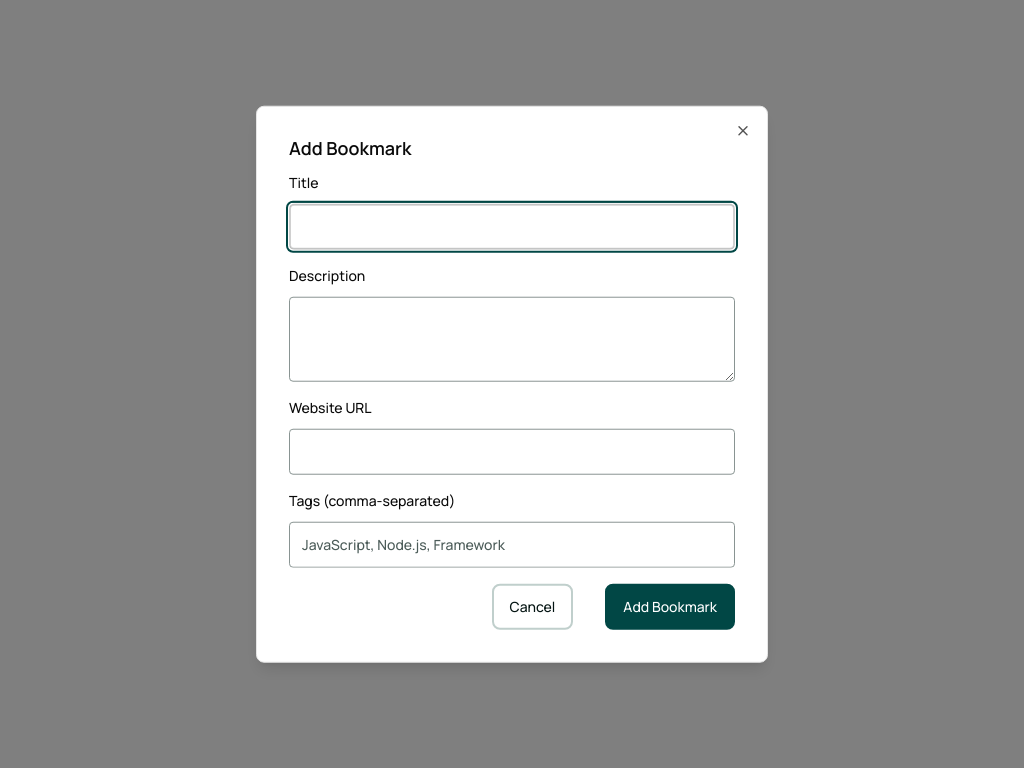
it: AddBookmarkDialog › validates required fields
Click the button "Add Bookmark": (670, 606) [605, 583, 735, 629]
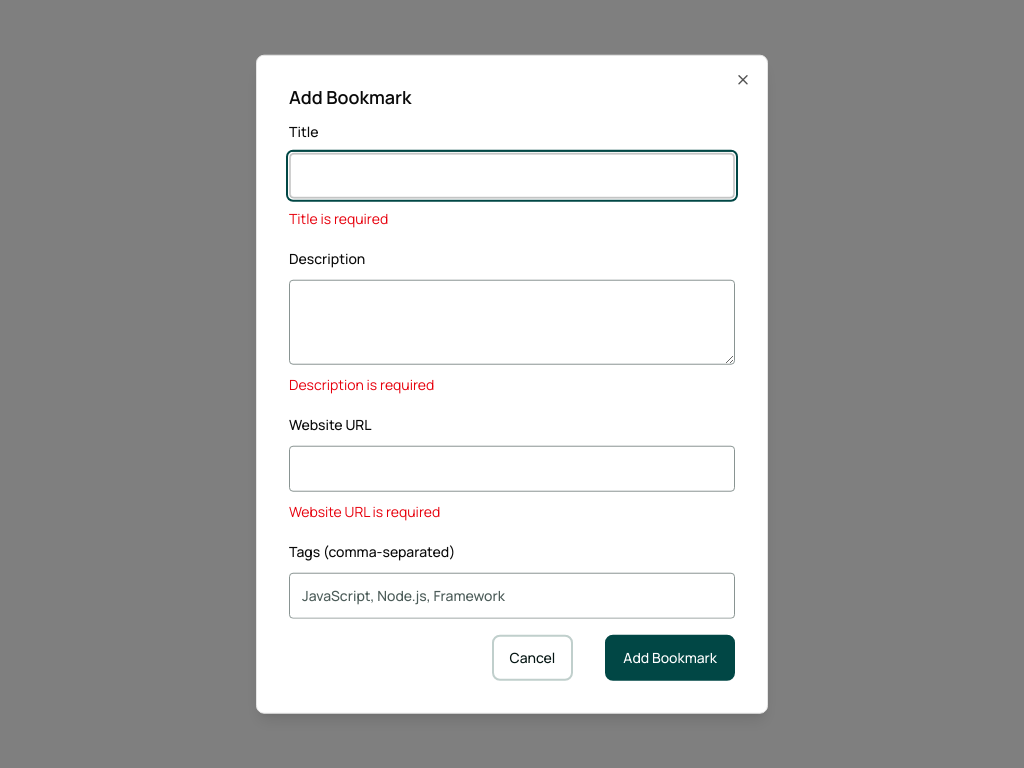
Result: the text "Title is required" is shown at [289, 209, 388, 228]
Result: the text "Description is required" is shown at [289, 375, 434, 394]
Result: the text "Website URL is required" is shown at [289, 501, 440, 520]
